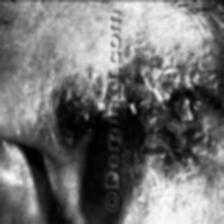Non-Cancerous Skin Condition: (126, 18, 224, 194), (57, 55, 105, 146)
